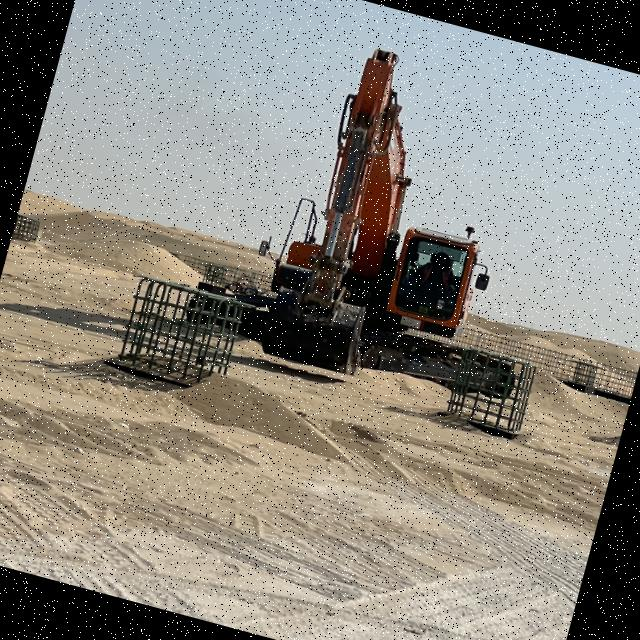Excavator: (229, 30, 542, 412)
